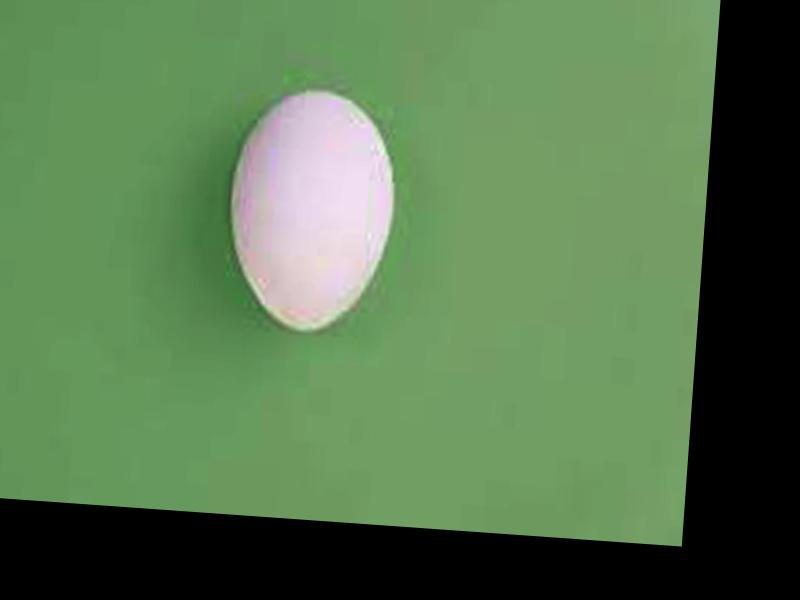Eggs: (220, 81, 401, 336)
